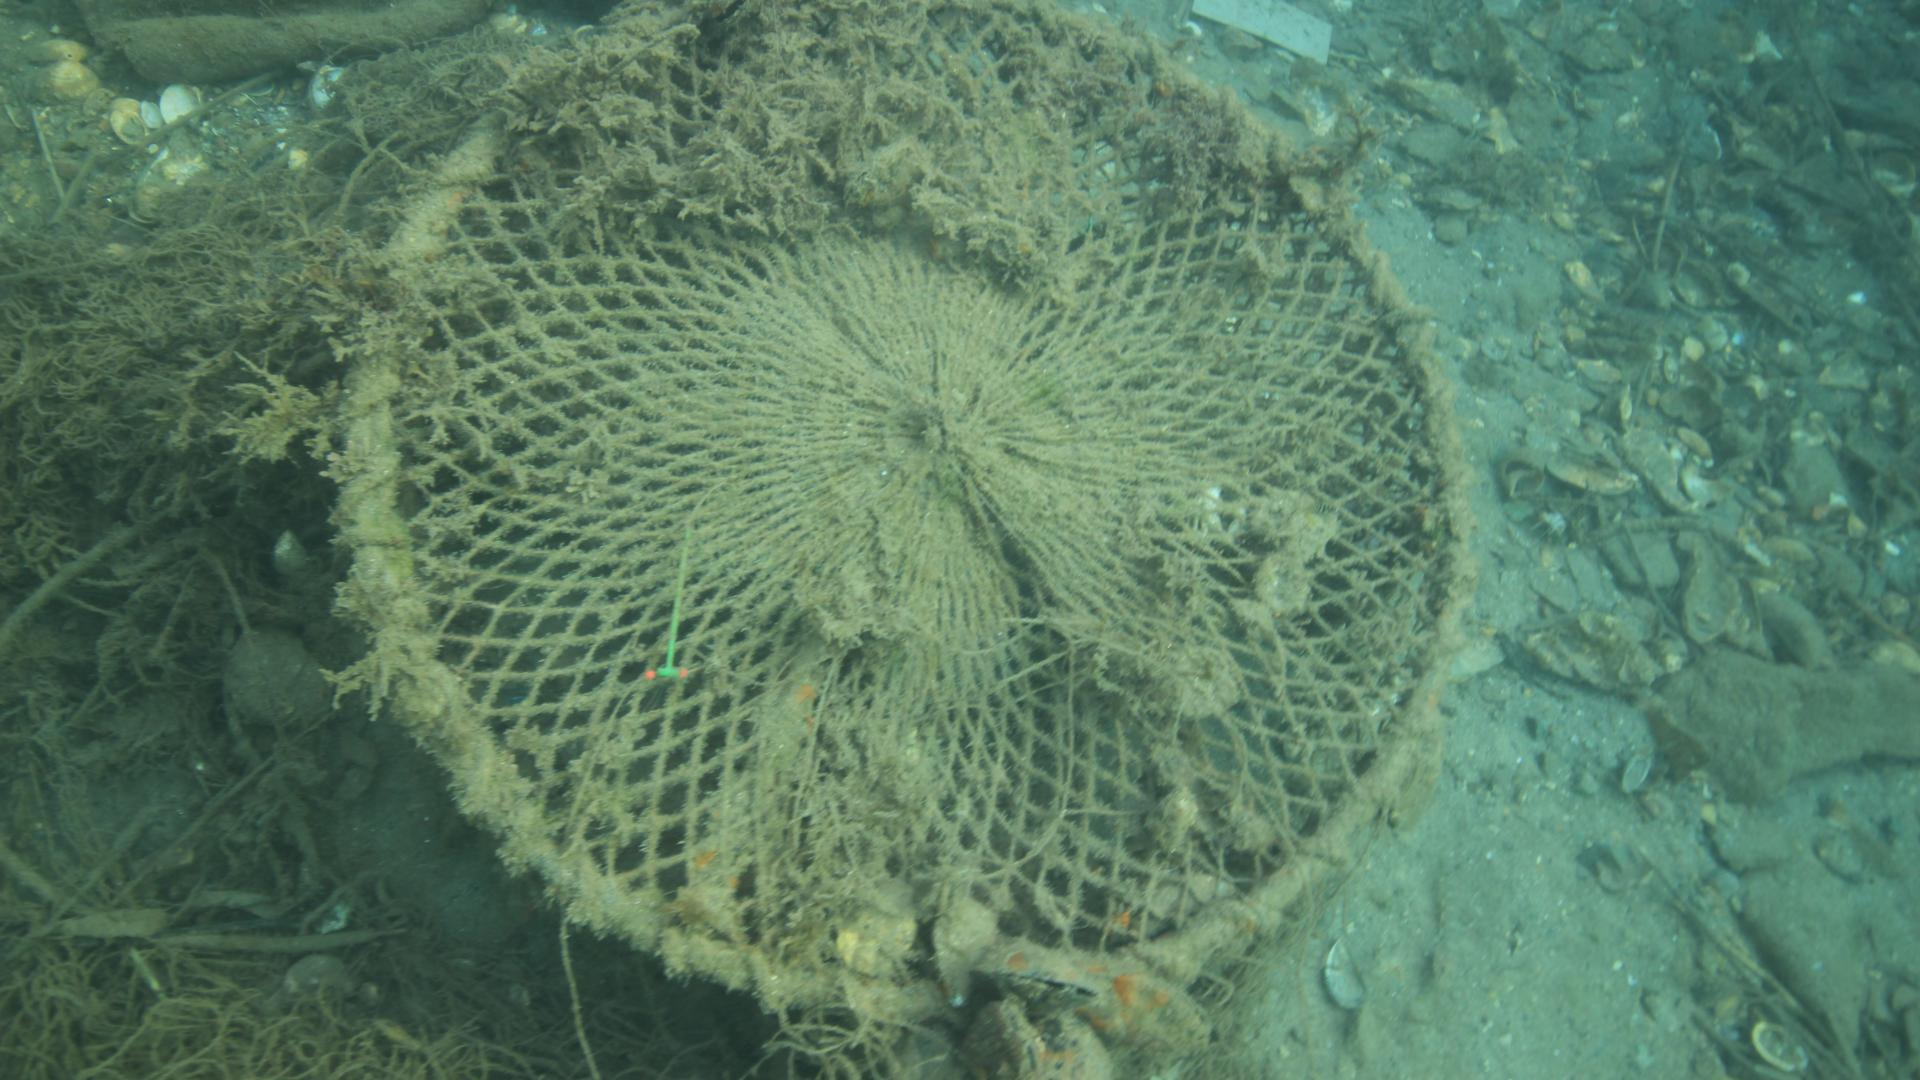circular fish trap: (324, 0, 1481, 1036)
